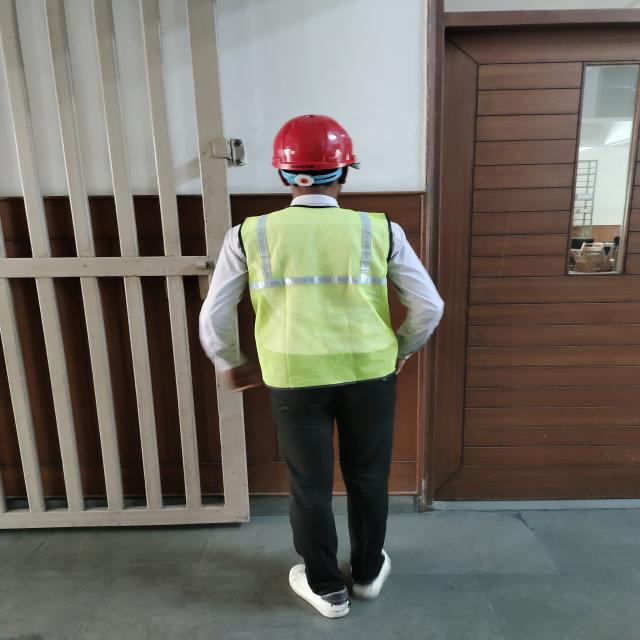safe: (218, 115, 412, 618)
